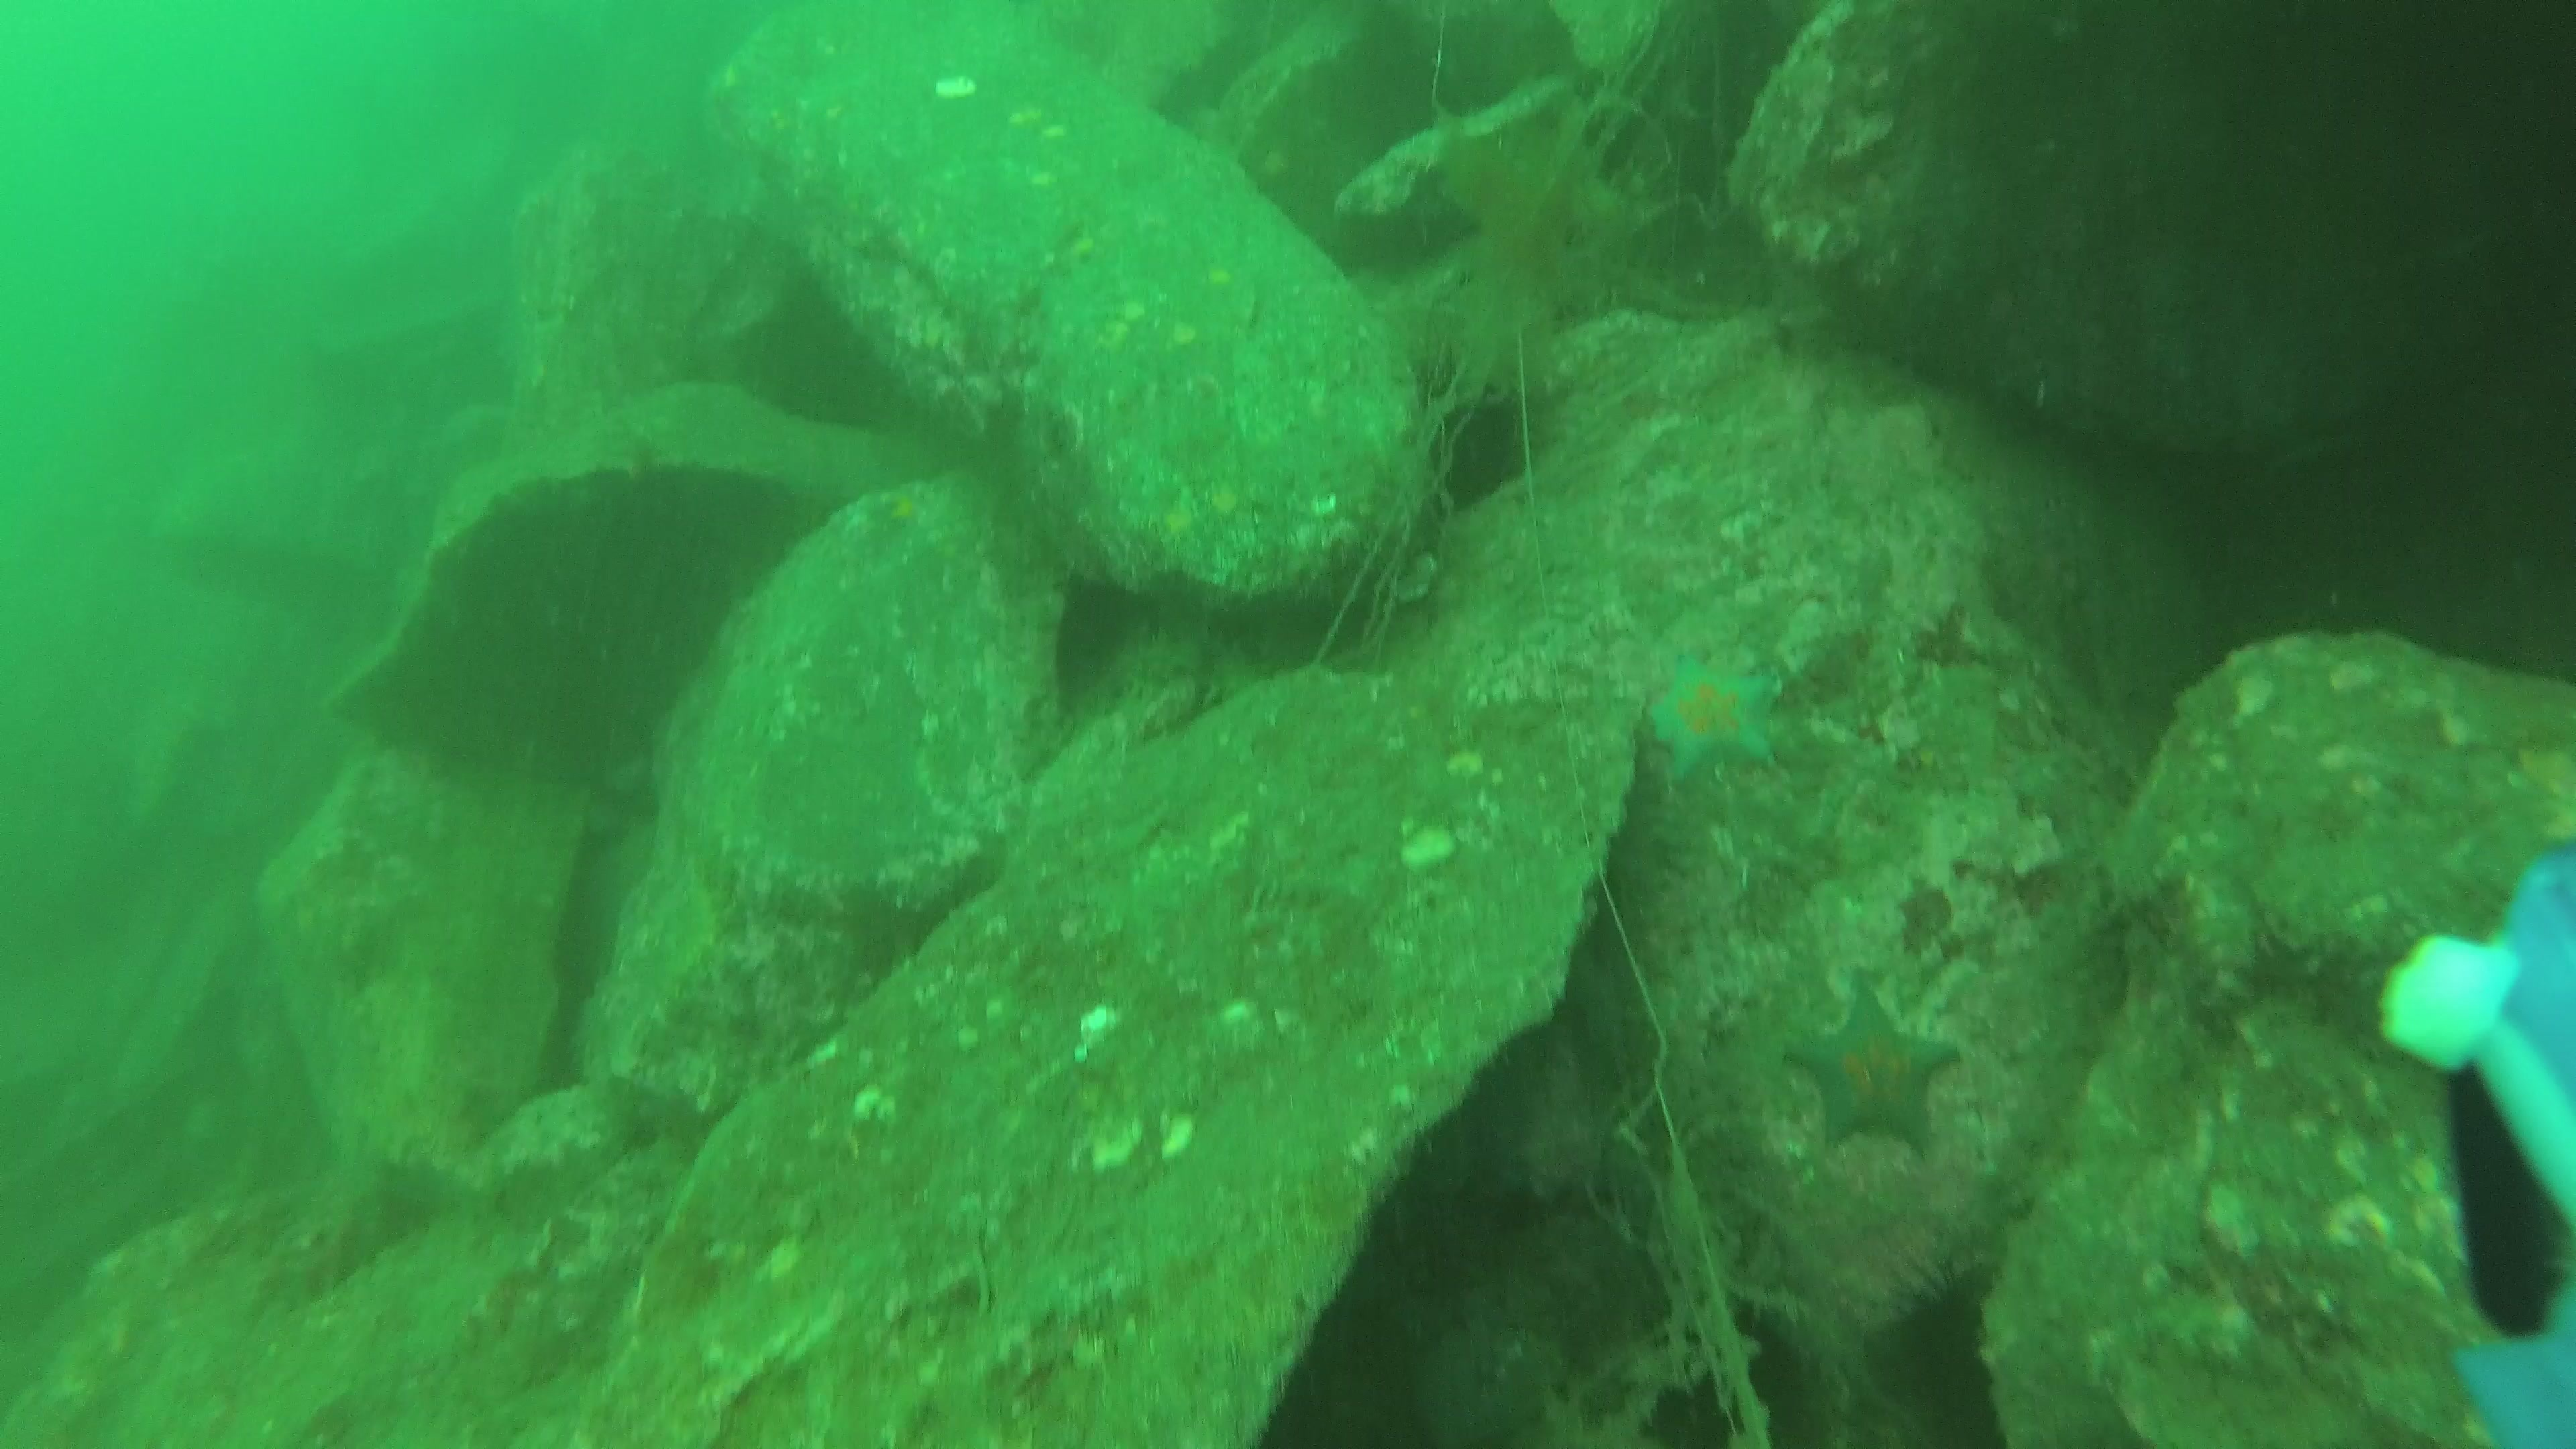starfish: (1780, 966, 1959, 1169), (1624, 639, 1785, 786)
